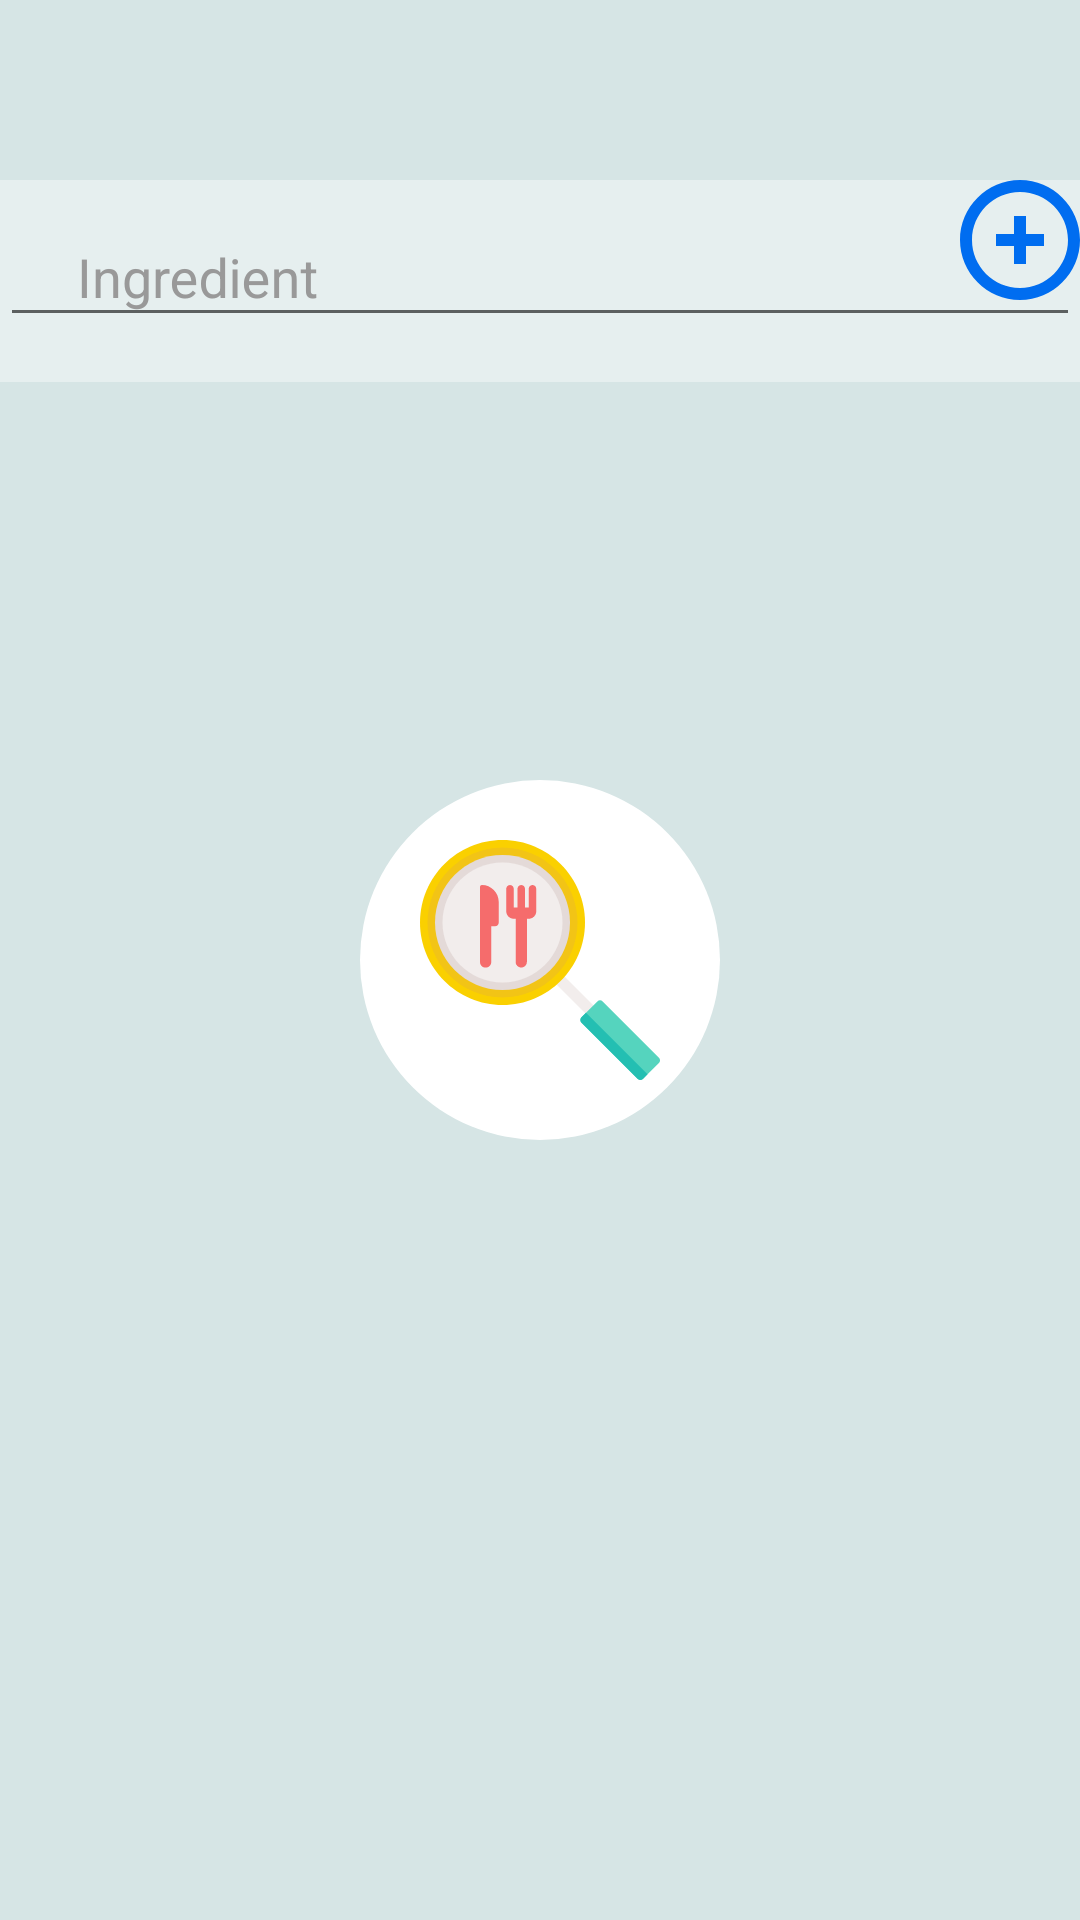

Icon bounding boxes for this 1080px×1920px phone screenshot, format (x1, y1, x2, y2):
add: (960, 180, 1080, 300)
